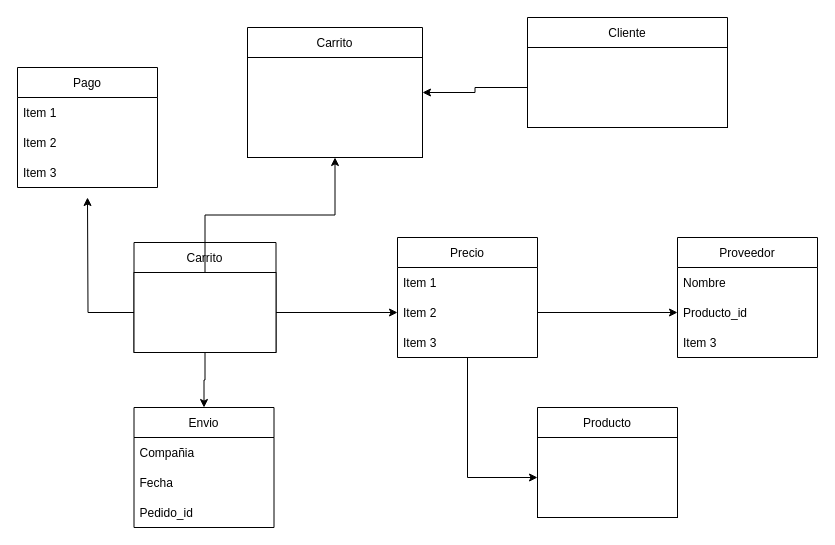
This 835x545 diagram has some shape labels left out. Here are the shapes that lost their labels. From the top down, the centre of each, then its label:
At point (334, 107): "Tipo Producto_id Precio Fecha Dirección Cliente_id".
At point (627, 87): "Nombre Dni Tipo Apellido Dirección".
At point (607, 477): "Categoria Pedido_id Proveedor".
